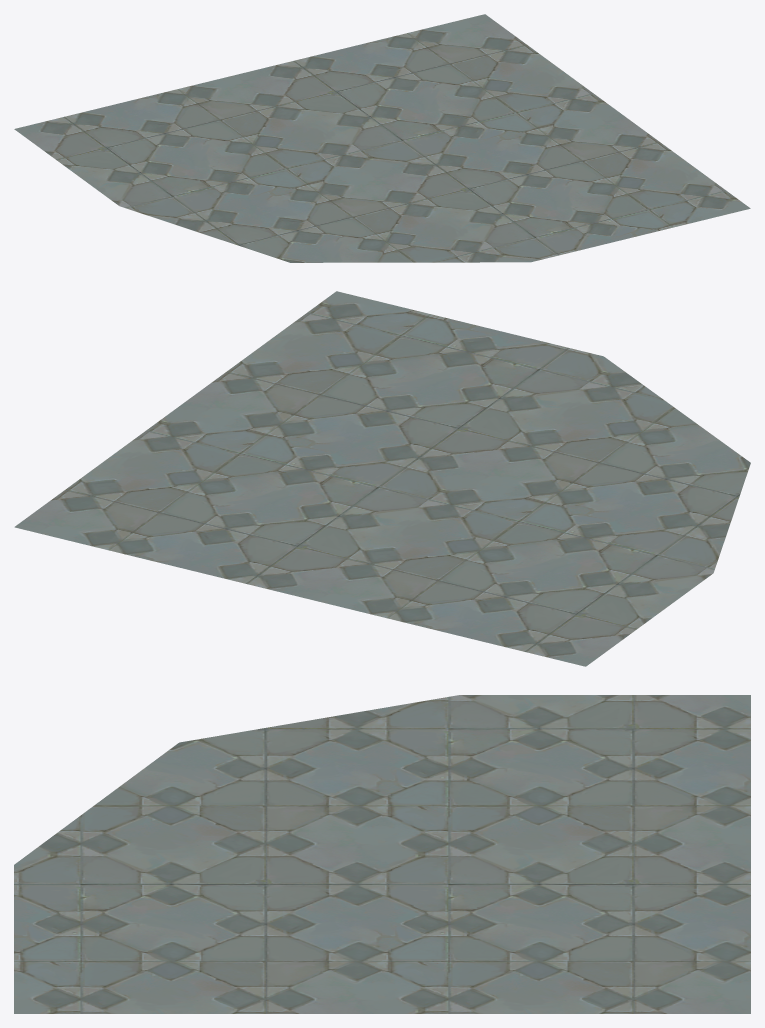
Rendered from Map_06_ground14.FBX.
3 views of the same model, one above another, from view 1: azimuth 30°, elevation 25°; view 2: azimuth 150°, elevation 25°; view 3: azimuth 270°, elevation 25° (orthographic). The views are drawn at different scales.
Visible parts, largest first — view 1: Map_06_ground14; view 2: Map_06_ground14; view 3: Map_06_ground14.
Boxes of the visible parts, x1=… form: Map_06_ground14: x1=14, y1=14, x2=750, y2=262; Map_06_ground14: x1=14, y1=291, x2=750, y2=666; Map_06_ground14: x1=14, y1=695, x2=750, y2=1013.
Size of the model in its own units: 1666 by 0.000356 by 1628.
Materials: 1 (1 with a texture image).
